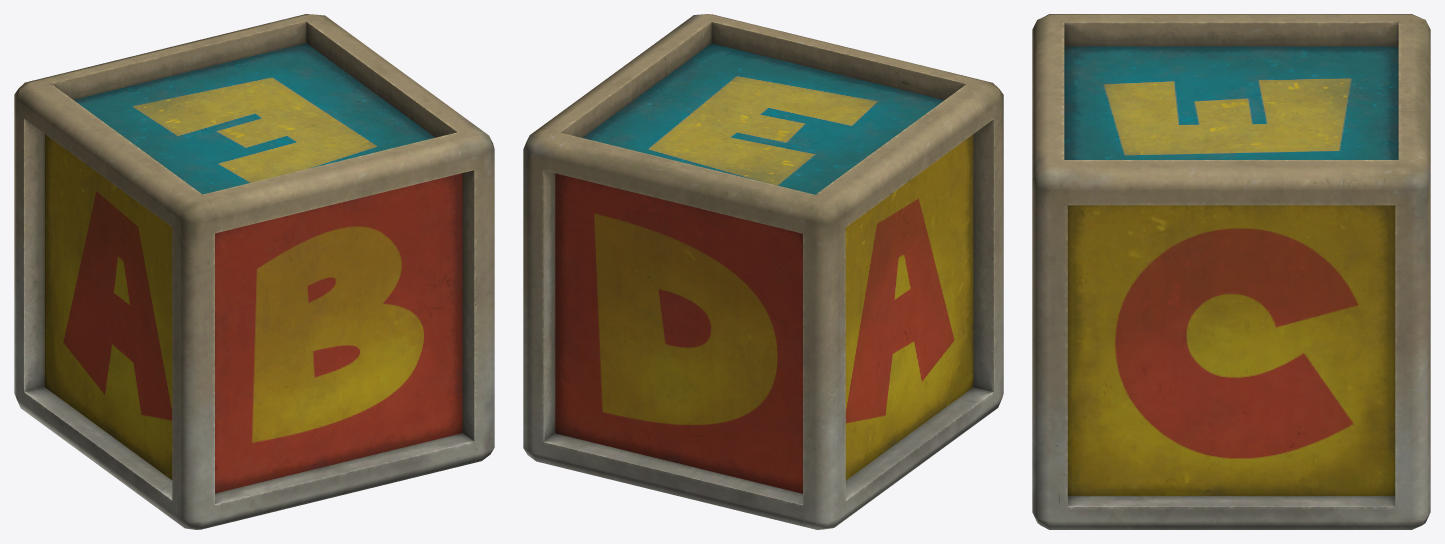
File: box_letters.glb
The picture shows the model from 3 angles, left to right: view 1: azimuth 30°, elevation 25°; view 2: azimuth 150°, elevation 25°; view 3: azimuth 270°, elevation 25°; orthographic projection. The views are drawn at different scales.
Parts seen in each view (by area): view 1: SM_BoxLetters_A; view 2: SM_BoxLetters_A; view 3: SM_BoxLetters_A.
Boxes of the visible parts, x1,y1,x2,y2 form: SM_BoxLetters_A: (14,14,494,529); SM_BoxLetters_A: (523,14,1003,529); SM_BoxLetters_A: (1032,14,1430,529).
Size of the model in its own units: 1.49 by 1.49 by 1.49.
3 materials, 3 textured.
